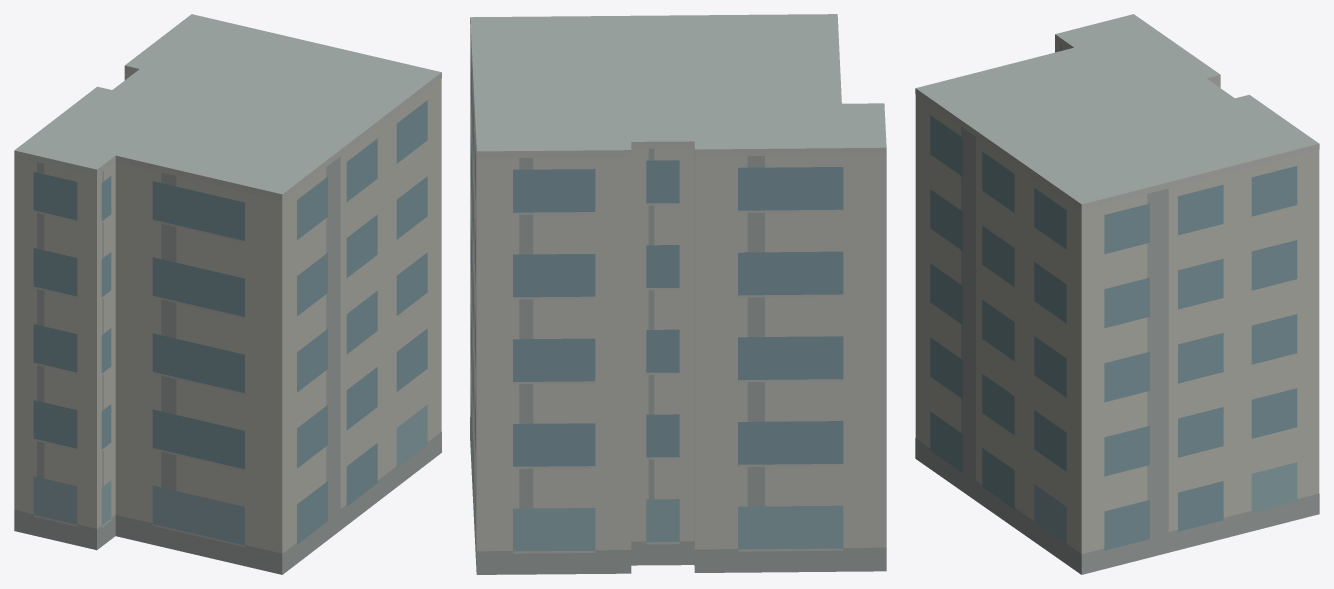
File: residential-57043c7e-0152-4bf6-b5a5-6bb41b3fe70d.glb
3 views of the same model, side by side, from view 1: azimuth 30°, elevation 25°; view 2: azimuth 150°, elevation 25°; view 3: azimuth 270°, elevation 25° (orthographic). The views are drawn at different scales.
Visible parts, largest first — view 1: residential-57043c7e-0152-4bf6-b5a5-6bb41b3fe70d.tmp; view 2: residential-57043c7e-0152-4bf6-b5a5-6bb41b3fe70d.tmp; view 3: residential-57043c7e-0152-4bf6-b5a5-6bb41b3fe70d.tmp.
Part boxes in pixels (left/top/right/bottom): residential-57043c7e-0152-4bf6-b5a5-6bb41b3fe70d.tmp: left=14, top=14, right=441, bottom=574; residential-57043c7e-0152-4bf6-b5a5-6bb41b3fe70d.tmp: left=470, top=14, right=886, bottom=574; residential-57043c7e-0152-4bf6-b5a5-6bb41b3fe70d.tmp: left=915, top=14, right=1319, bottom=574.
Size of the model in its own units: 16.21 by 14.7 by 14.54.
